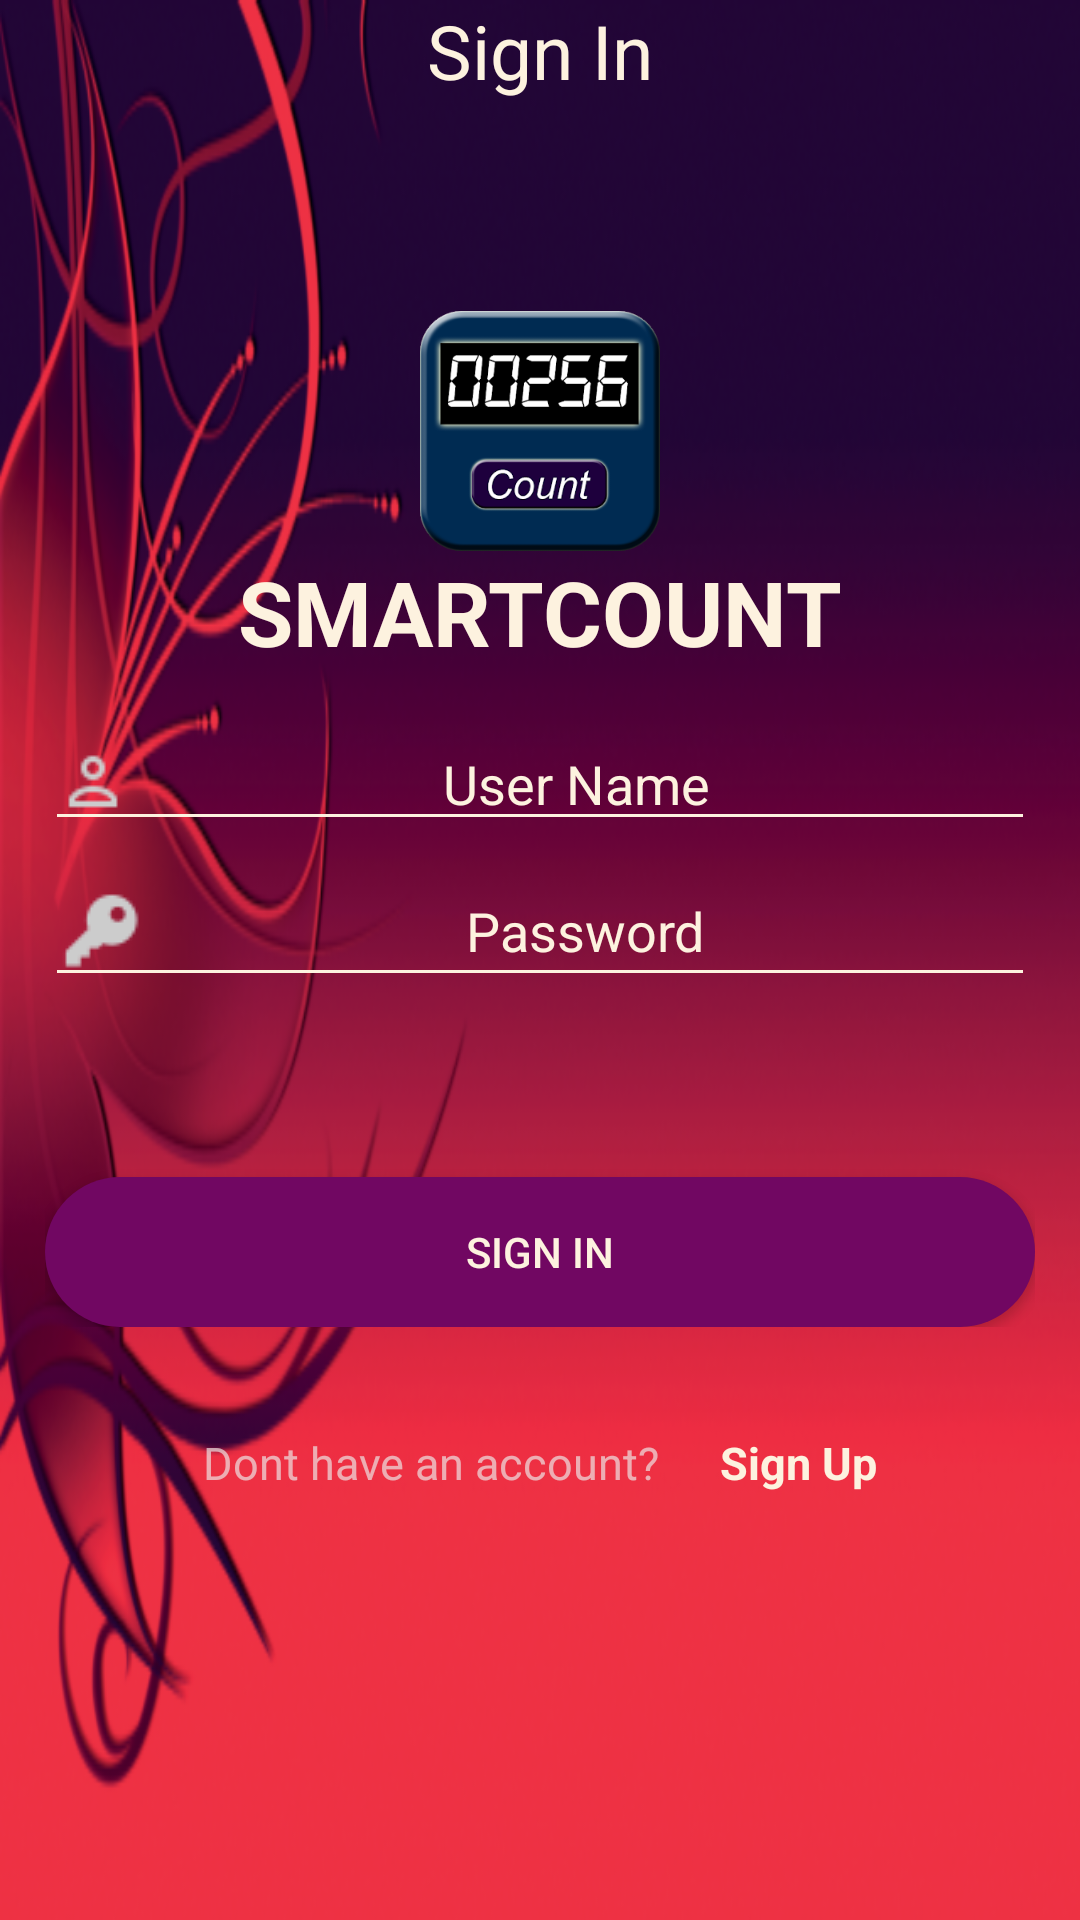

Screen size 1080 x 1920. Icon name, then its center in pixels as (x,y):
digicount: (540,431)
